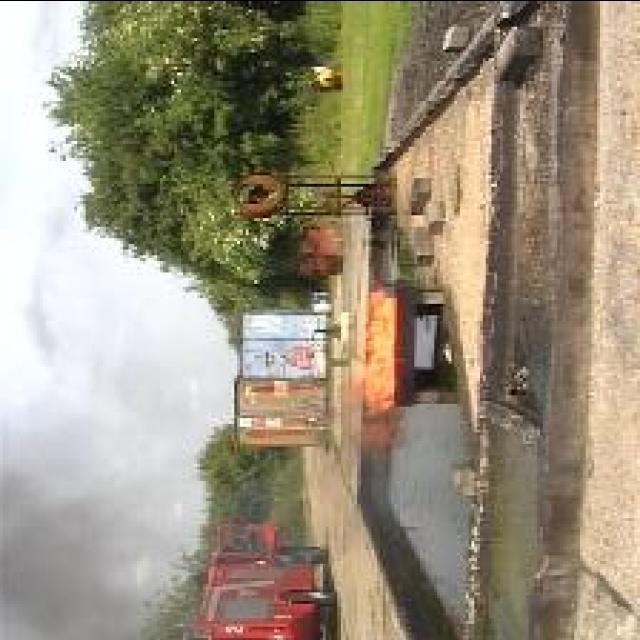Fire: (347, 288, 399, 416)
